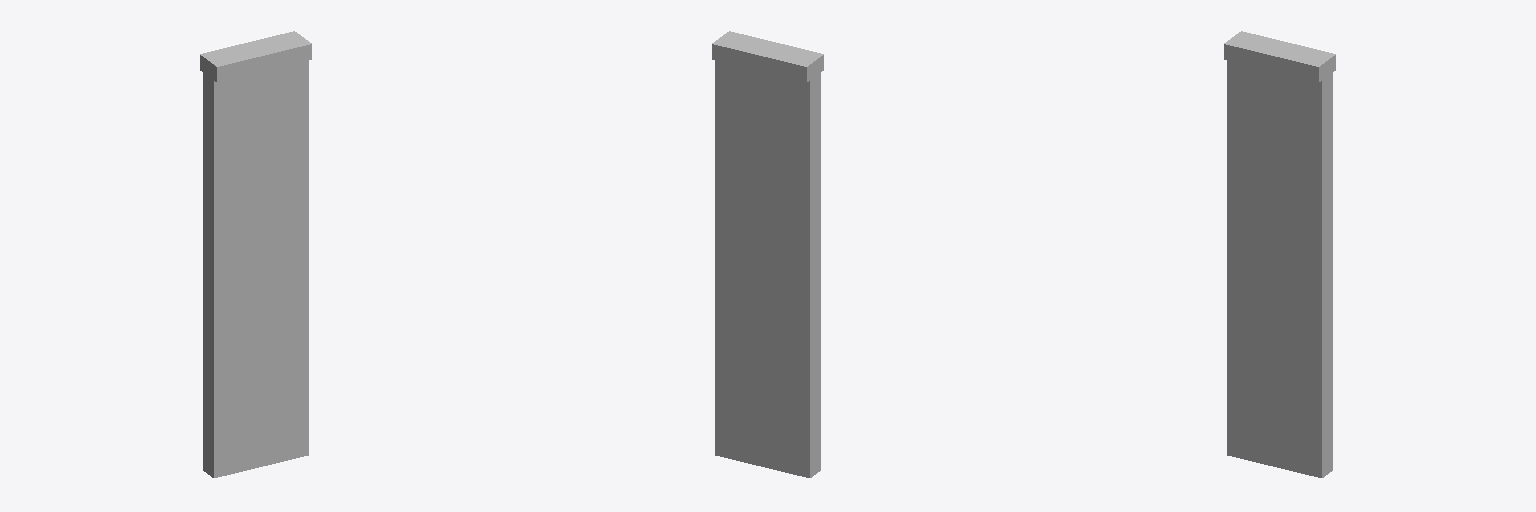
Rendered from Trail.obj.
3 views of the same model, side by side, from view 1: azimuth 30°, elevation 25°; view 2: azimuth 150°, elevation 25°; view 3: azimuth 330°, elevation 25° (orthographic).
Visible parts, largest first — view 1: pCube1; view 2: pCube1; view 3: pCube1.
Boxes of the visible parts, <box> form: pCube1: <box>200,31,311,477</box>; pCube1: <box>712,31,823,477</box>; pCube1: <box>1224,31,1335,477</box>.
Bounding box in the file's own units: 0.5 × 2.08 × 0.16.